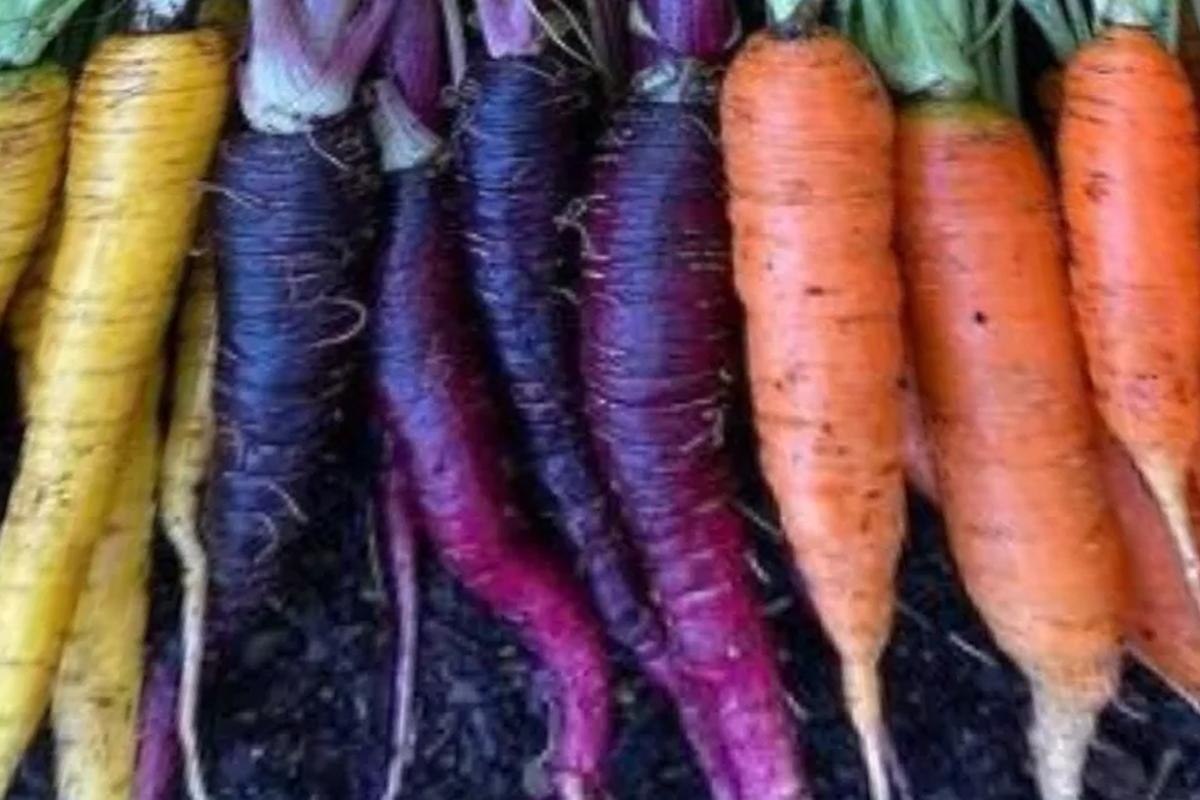carrot: (732, 11, 1200, 776), (879, 1, 1142, 800), (730, 0, 959, 800), (1071, 0, 1199, 660)
